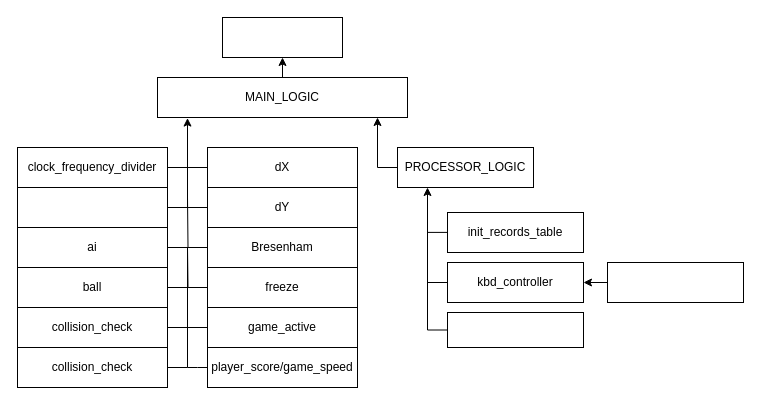
Image size: 761x405. Some labels were removed from this diagram. Here are the shapes that lost their labels. From the top down, the box of each, then its label:
(222, 16, 342, 58): MAIN
(16, 186, 168, 228): player
(606, 262, 744, 302): symbol_is_valid
(446, 312, 584, 348): name_is_valid
